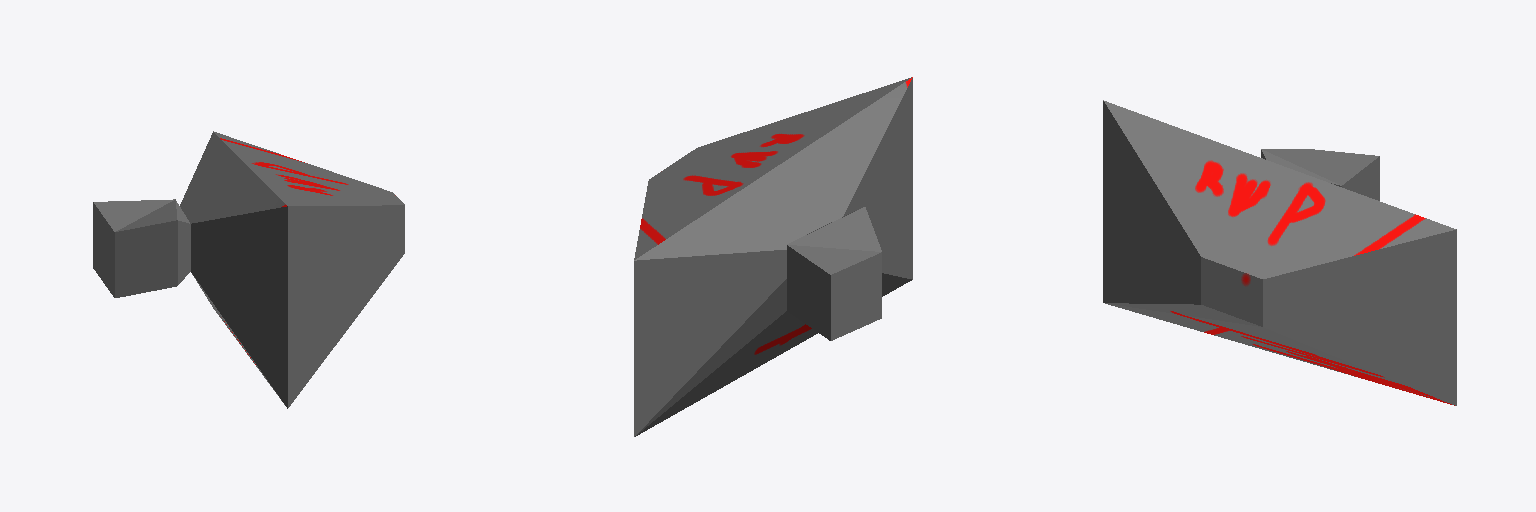
3 views of the same model, side by side, from view 1: azimuth 30°, elevation 25°; view 2: azimuth 150°, elevation 25°; view 3: azimuth 270°, elevation 25° (orthographic).
Parts seen in each view (by area): view 1: Cube; view 2: Cube; view 3: Cube.
Part boxes in pixels (bbox=[...]): Cube: bbox=[93, 131, 404, 408]; Cube: bbox=[634, 77, 912, 436]; Cube: bbox=[1103, 100, 1456, 405].
Bounding box in the file's own units: 8.08 × 7.74 × 9.68.
Materials: 1 (1 with a texture image).